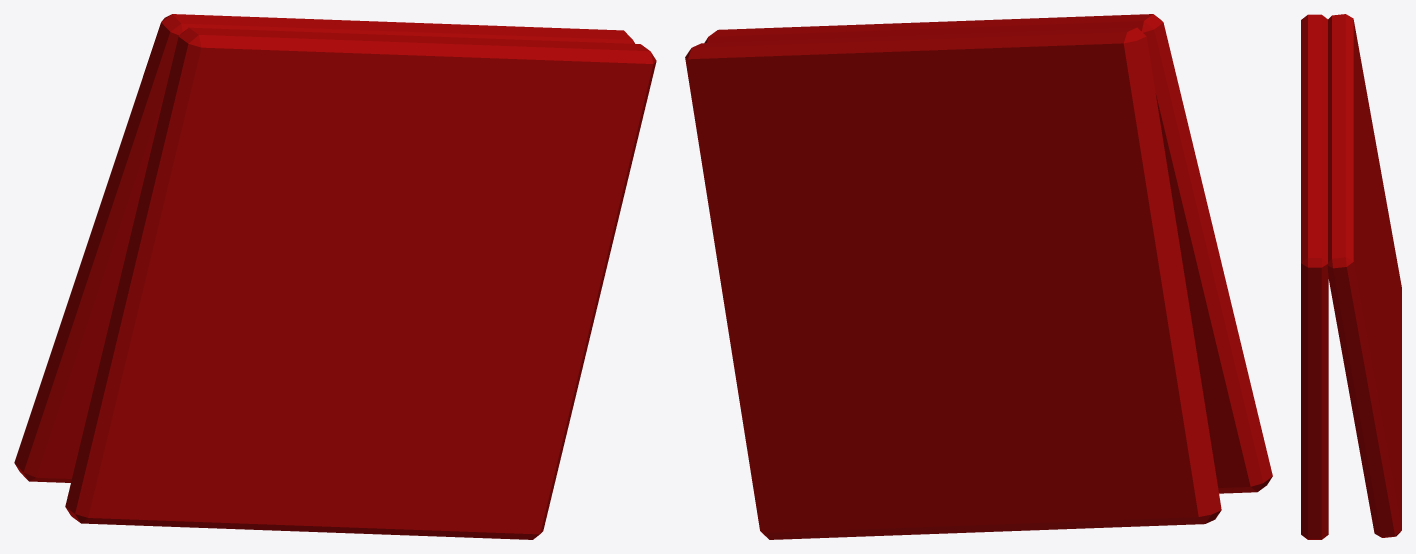
File: Item_laptop_Tray_Sec.fbx
3 renders of one model, left to right at view 1: azimuth 30°, elevation 25°; view 2: azimuth 150°, elevation 25°; view 3: azimuth 270°, elevation 25°, orthographic. The views are drawn at different scales.
Visible parts, largest first — view 1: pCube31; view 2: pCube31; view 3: pCube31.
Part boxes in pixels (x1,y1,x2,y2): pCube31: [14, 14, 656, 539]; pCube31: [685, 14, 1272, 539]; pCube31: [1301, 14, 1401, 539].
Size of the model in its own units: 37.46 by 36.15 by 8.02.
